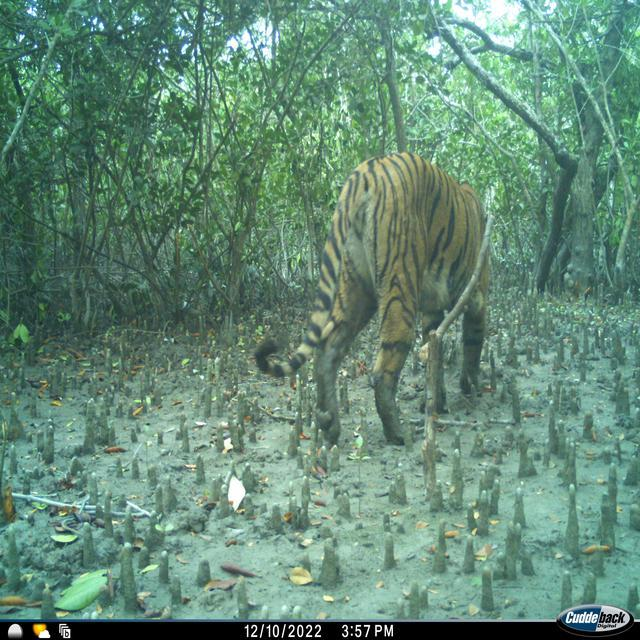tiger: (252, 150, 491, 450)
